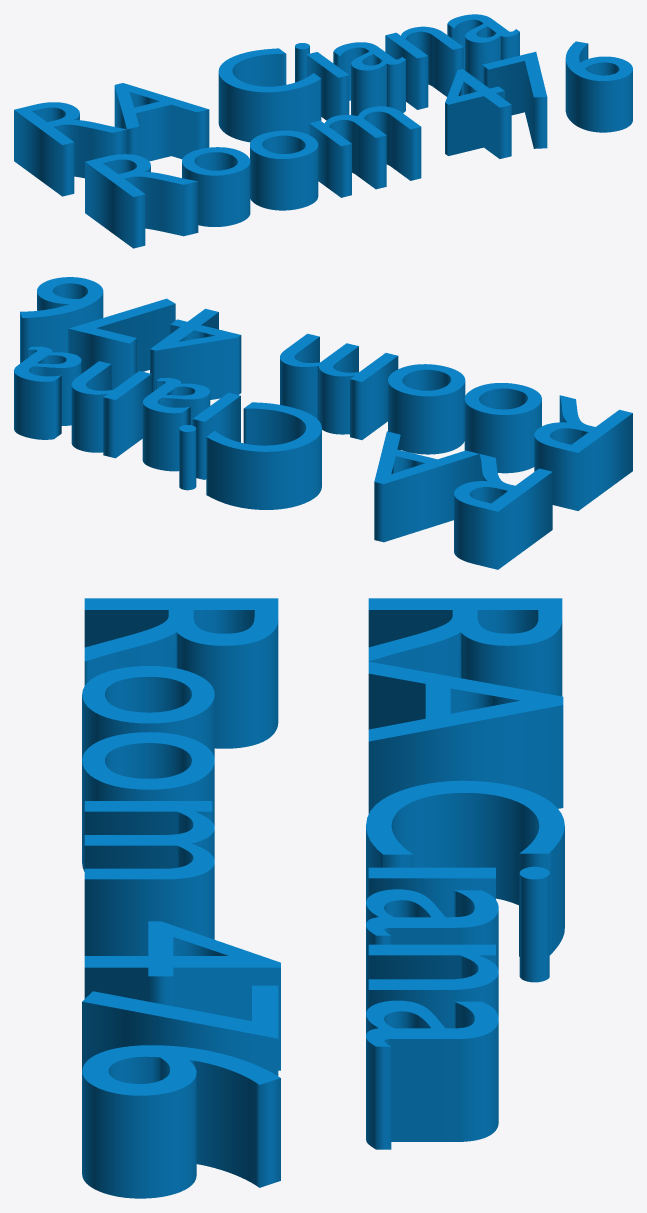
Rendered from ra-ciana-476.gltf.
3 views of the same model, one above another, from view 1: azimuth 30°, elevation 25°; view 2: azimuth 150°, elevation 25°; view 3: azimuth 270°, elevation 25° (orthographic). The views are drawn at different scales.
Parts seen in each view (by area): view 1: Text; view 2: Text; view 3: Text.
Boxes of the visible parts, x1,y1,x2,y2 form: Text: (14, 14, 632, 248); Text: (14, 277, 632, 569); Text: (82, 598, 564, 1198).
Size of the model in its own units: 4.15 by 0.4 by 1.7.
